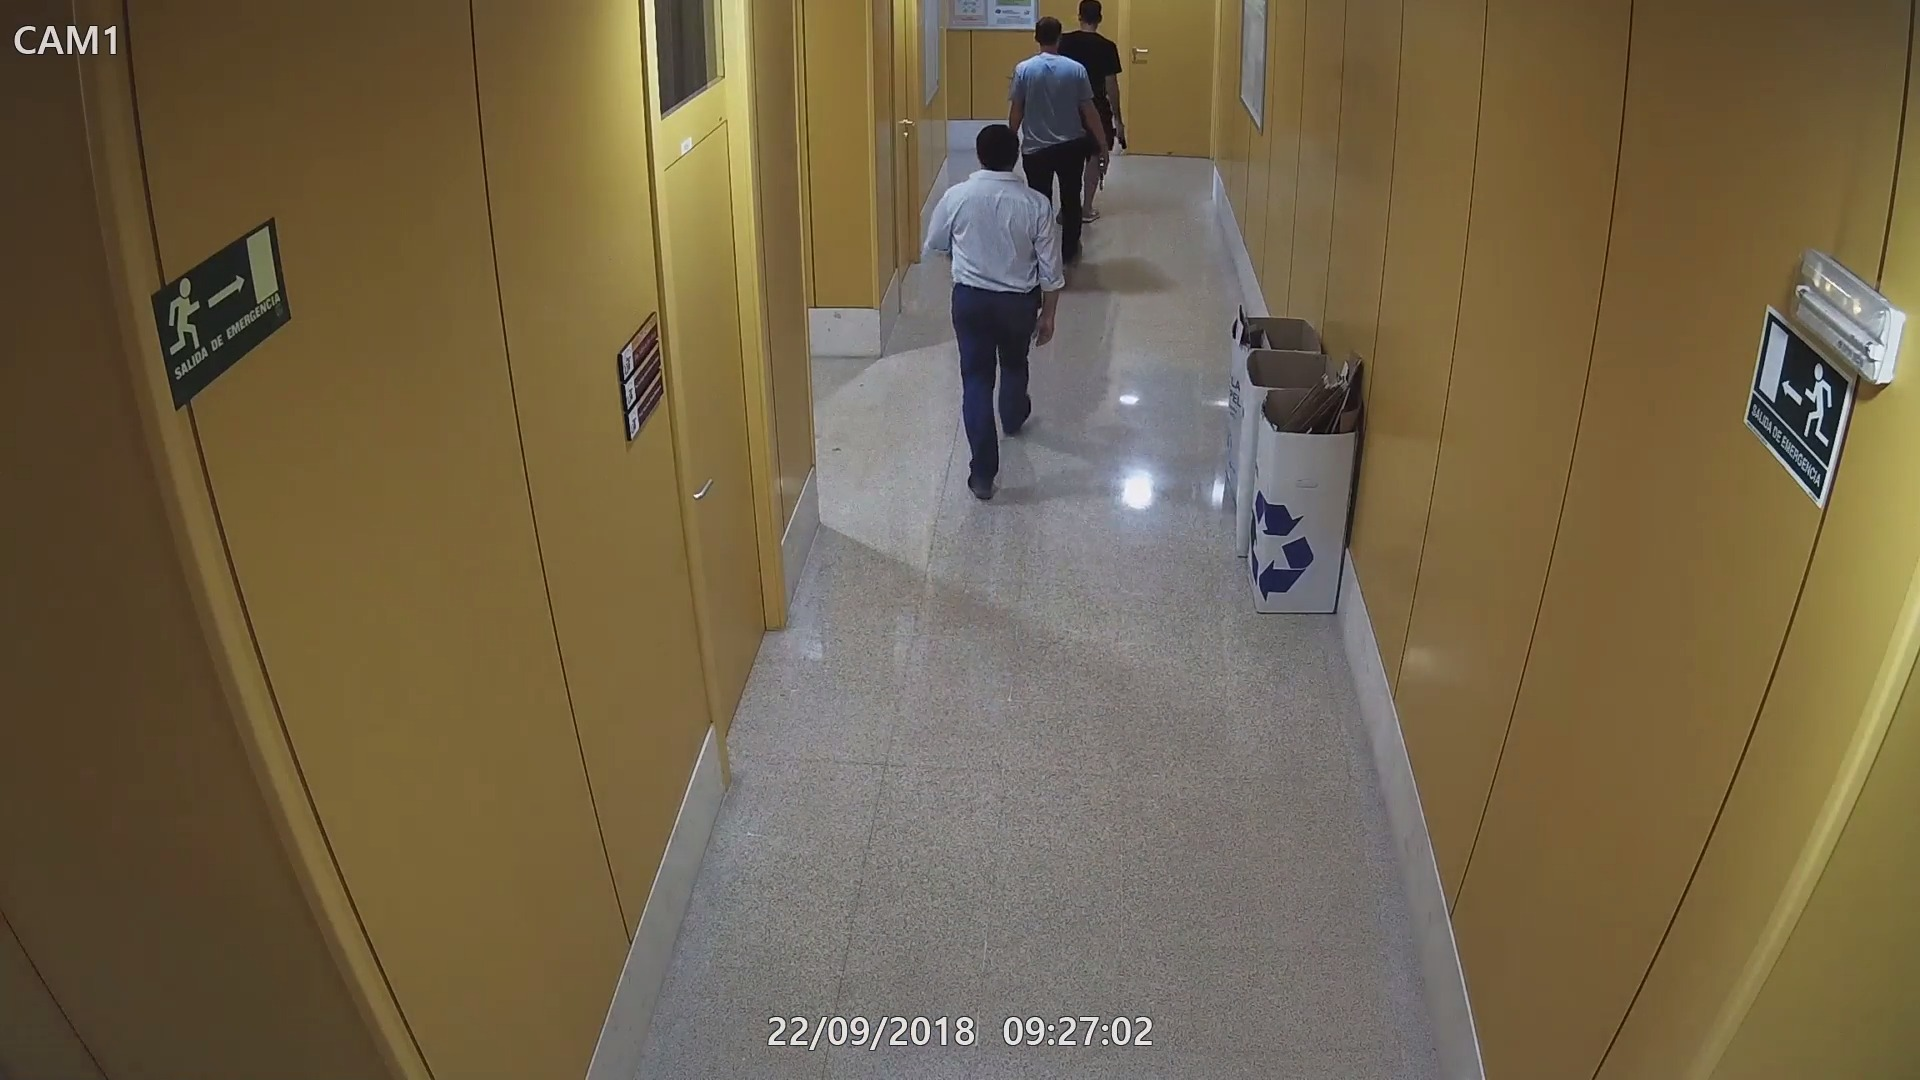Handgun: (1088, 150, 1114, 189), (1104, 117, 1130, 152)
